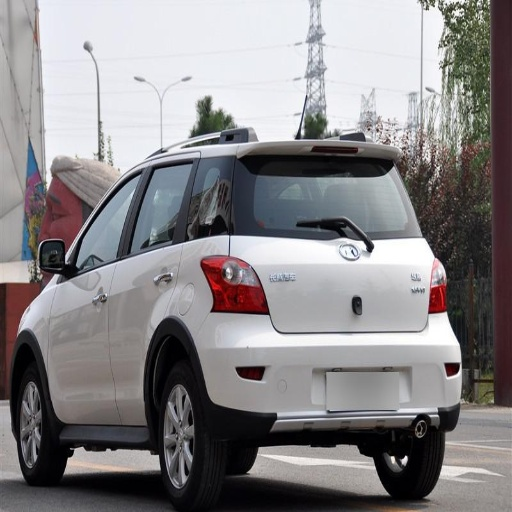back_bumper: (194, 312, 458, 440)
back_glass: (234, 155, 416, 235)
back_left_door: (111, 157, 195, 423)
trunk: (242, 240, 434, 368)
